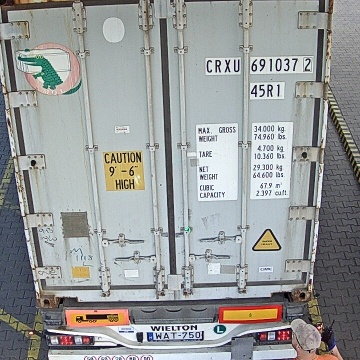serial_id: (205, 57, 313, 73)
